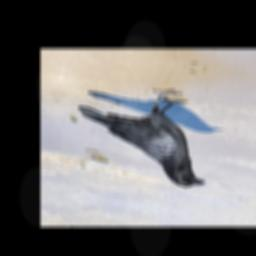Crow: (66, 76, 221, 190)
